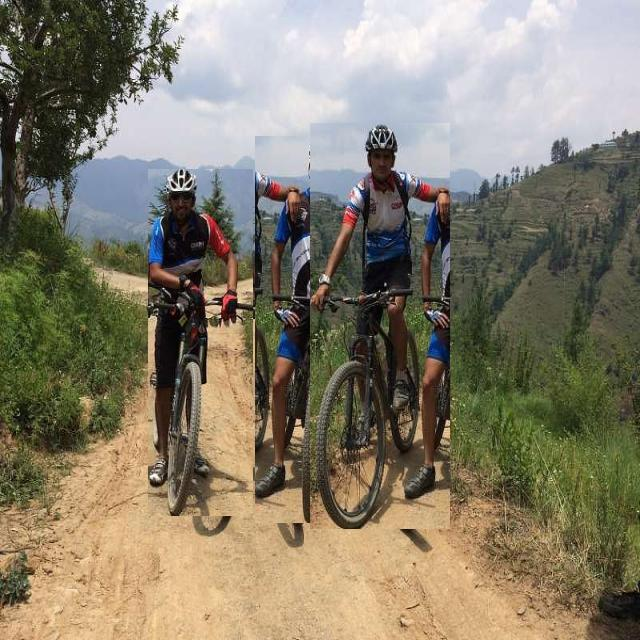bicycle: (310, 124, 450, 529), (255, 137, 355, 523), (149, 170, 253, 516)
